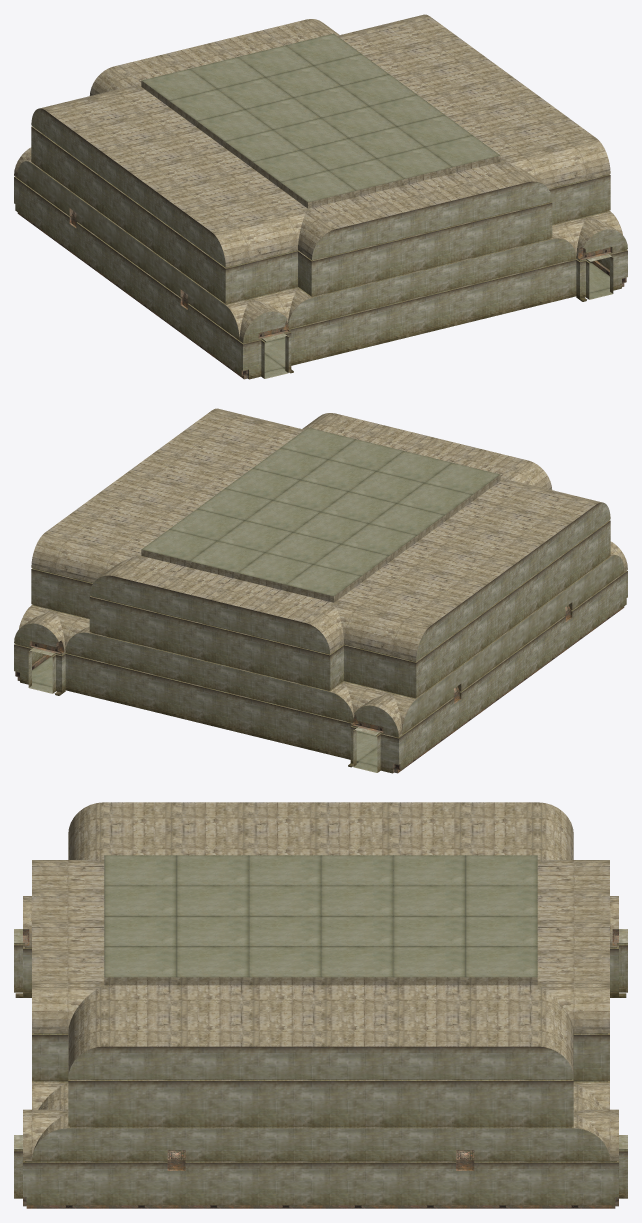
File: poi_all_bunker_allum_mine_r18_filtrationroom18_mesh_r18.fbx
3 renders of one model, top to bottom at view 1: azimuth 30°, elevation 25°; view 2: azimuth 150°, elevation 25°; view 3: azimuth 270°, elevation 25°, orthographic. The views are drawn at different scales.
Parts seen in each view (by area): view 1: mesh_node; view 2: mesh_node; view 3: mesh_node.
Part boxes in pixels (x1,y1,x2,y2): mesh_node: (14,14,627,379); mesh_node: (14,408,627,773); mesh_node: (14,802,627,1208).
Size of the model in its own units: 32 by 12.5 by 34.
